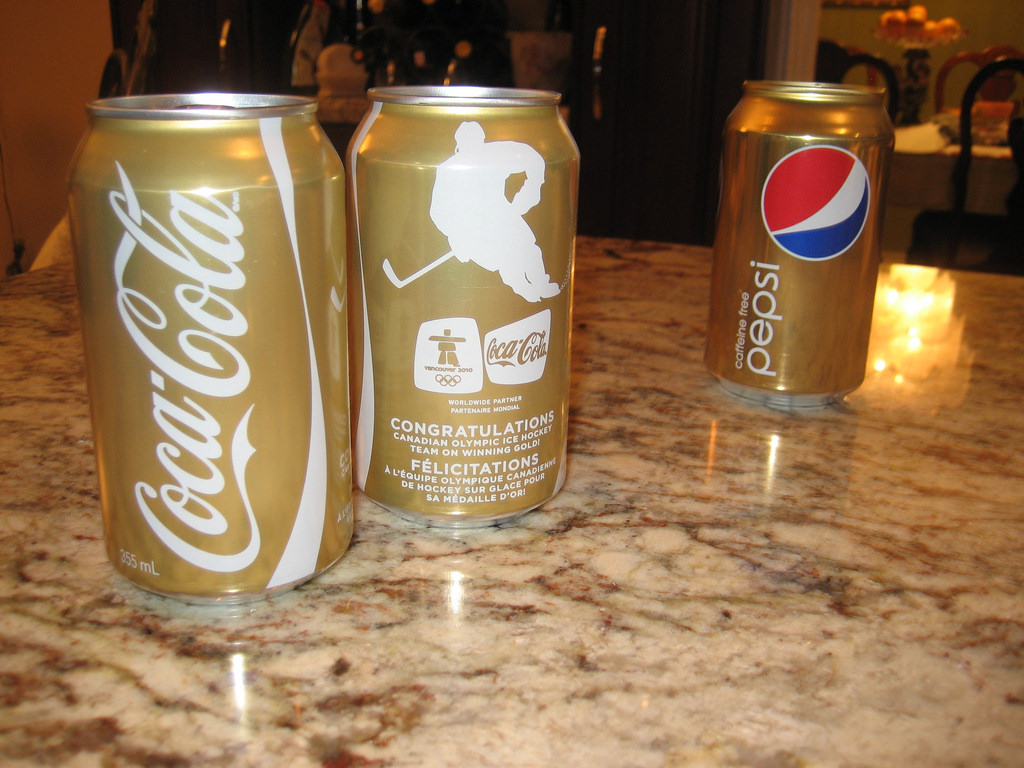can: (62, 81, 358, 612), (358, 60, 584, 564), (705, 81, 901, 442)
